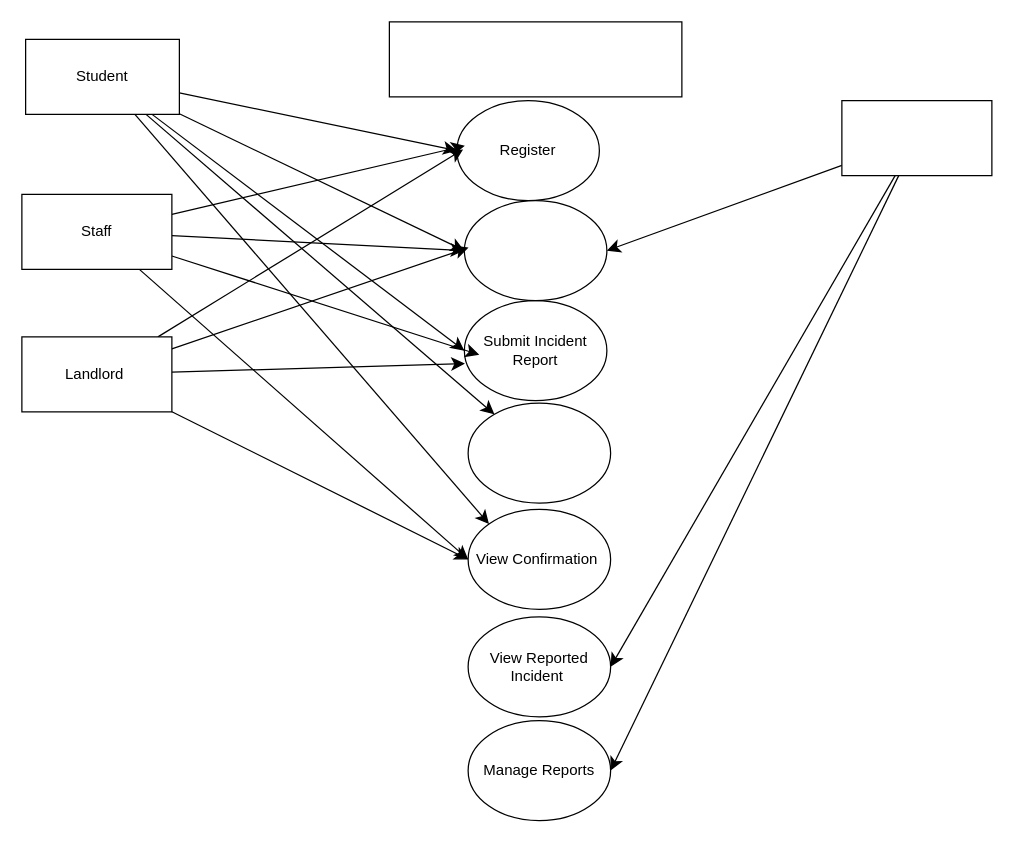
Some shapes in this 1014 by 843 pixel diagram are drawn without their labels. Here are the shapes that lost their labels. From the top down, the centre of each, then its label:
the point at 535,59: SIM (Security Incident Mapping) System
the point at 916,137: Admin
the point at 535,250: Login
the point at 539,452: Report Anonymously
